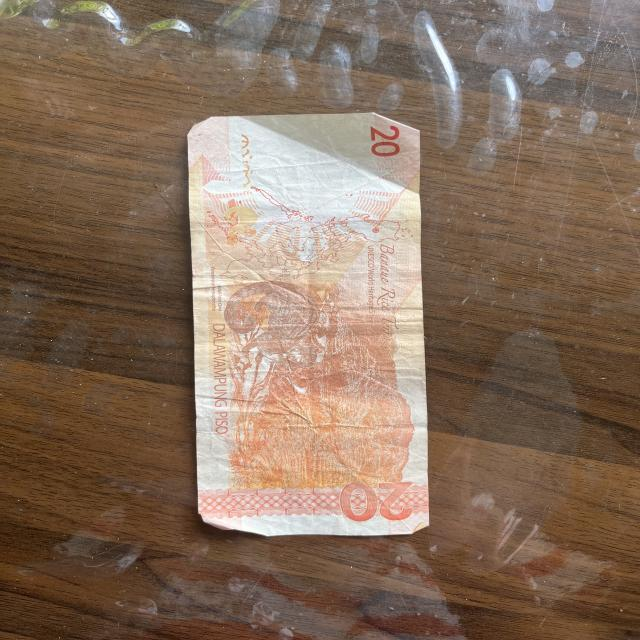20_civet: (225, 280, 318, 374)
20_civet_watermark: (226, 201, 264, 240)
